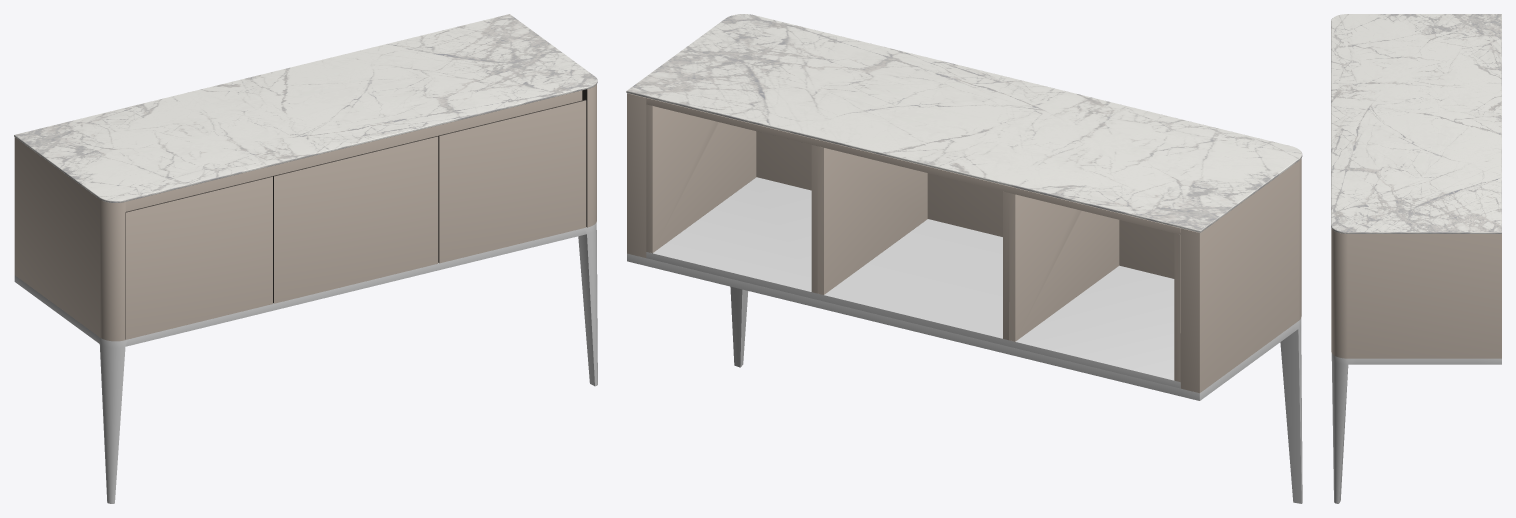
3 views of the same model, side by side, from view 1: azimuth 30°, elevation 25°; view 2: azimuth 150°, elevation 25°; view 3: azimuth 270°, elevation 25° (orthographic). The views are drawn at different scales.
Visible parts, largest first — view 1: ER03; view 2: ER03; view 3: ER03.
Part boxes in pixels (x1=…): ER03: x1=14, y1=14, x2=597, y2=503; ER03: x1=626, y1=14, x2=1302, y2=503; ER03: x1=1331, y1=14, x2=1501, y2=503.
Size of the model in its own units: 1.5 by 0.8749 by 0.496.
5 materials, 1 textured.
